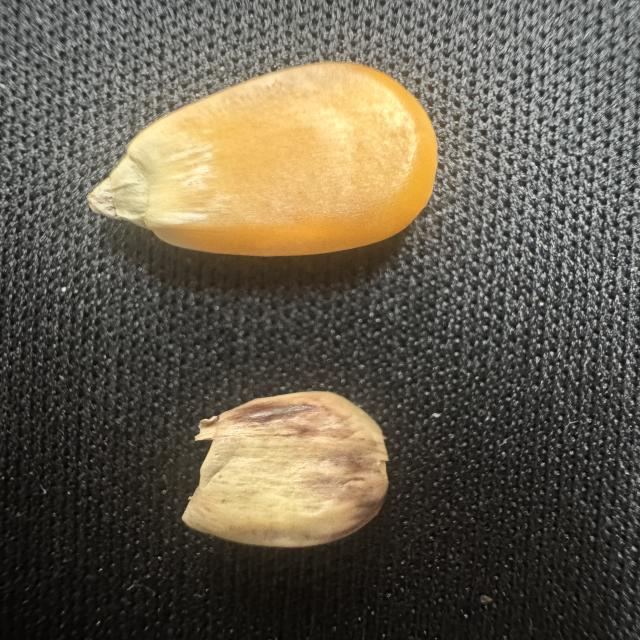Bad-Seed: (174, 386, 397, 559)
Good-Seed: (75, 56, 453, 264)
